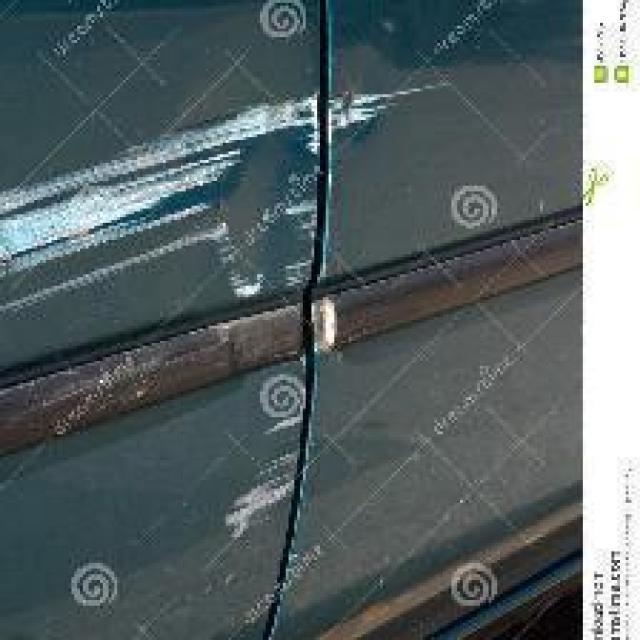damaged: (6, 85, 457, 318), (220, 437, 326, 552)
